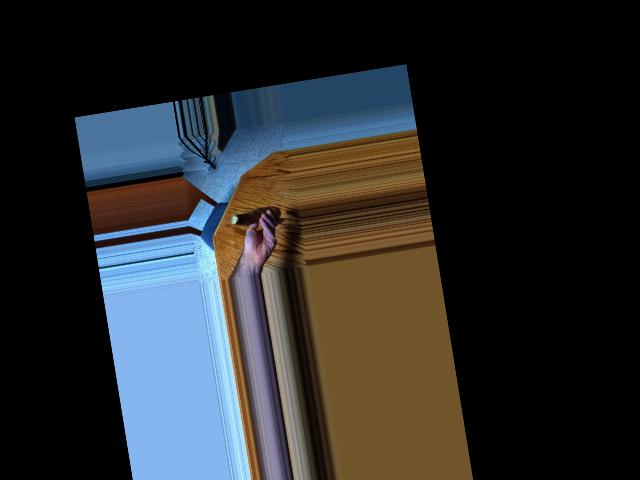sweet_potato: (234, 200, 277, 225)
